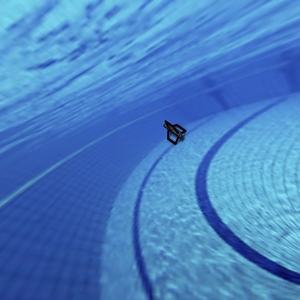submarine: (143, 102, 199, 159)
